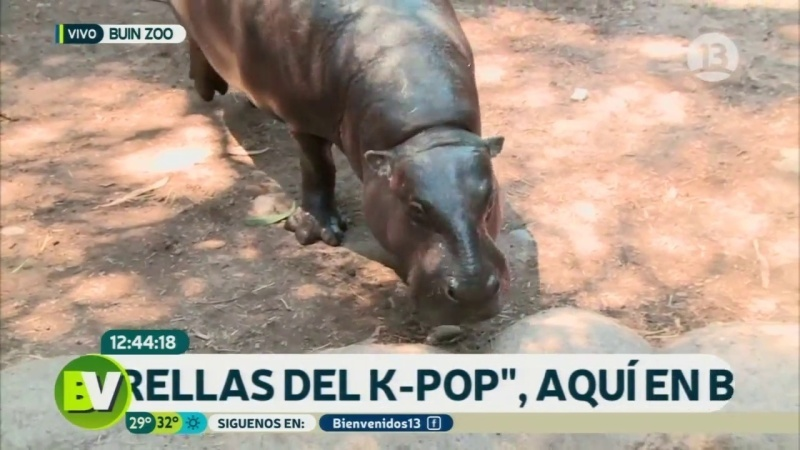hipopotamo: (144, 1, 552, 331)
